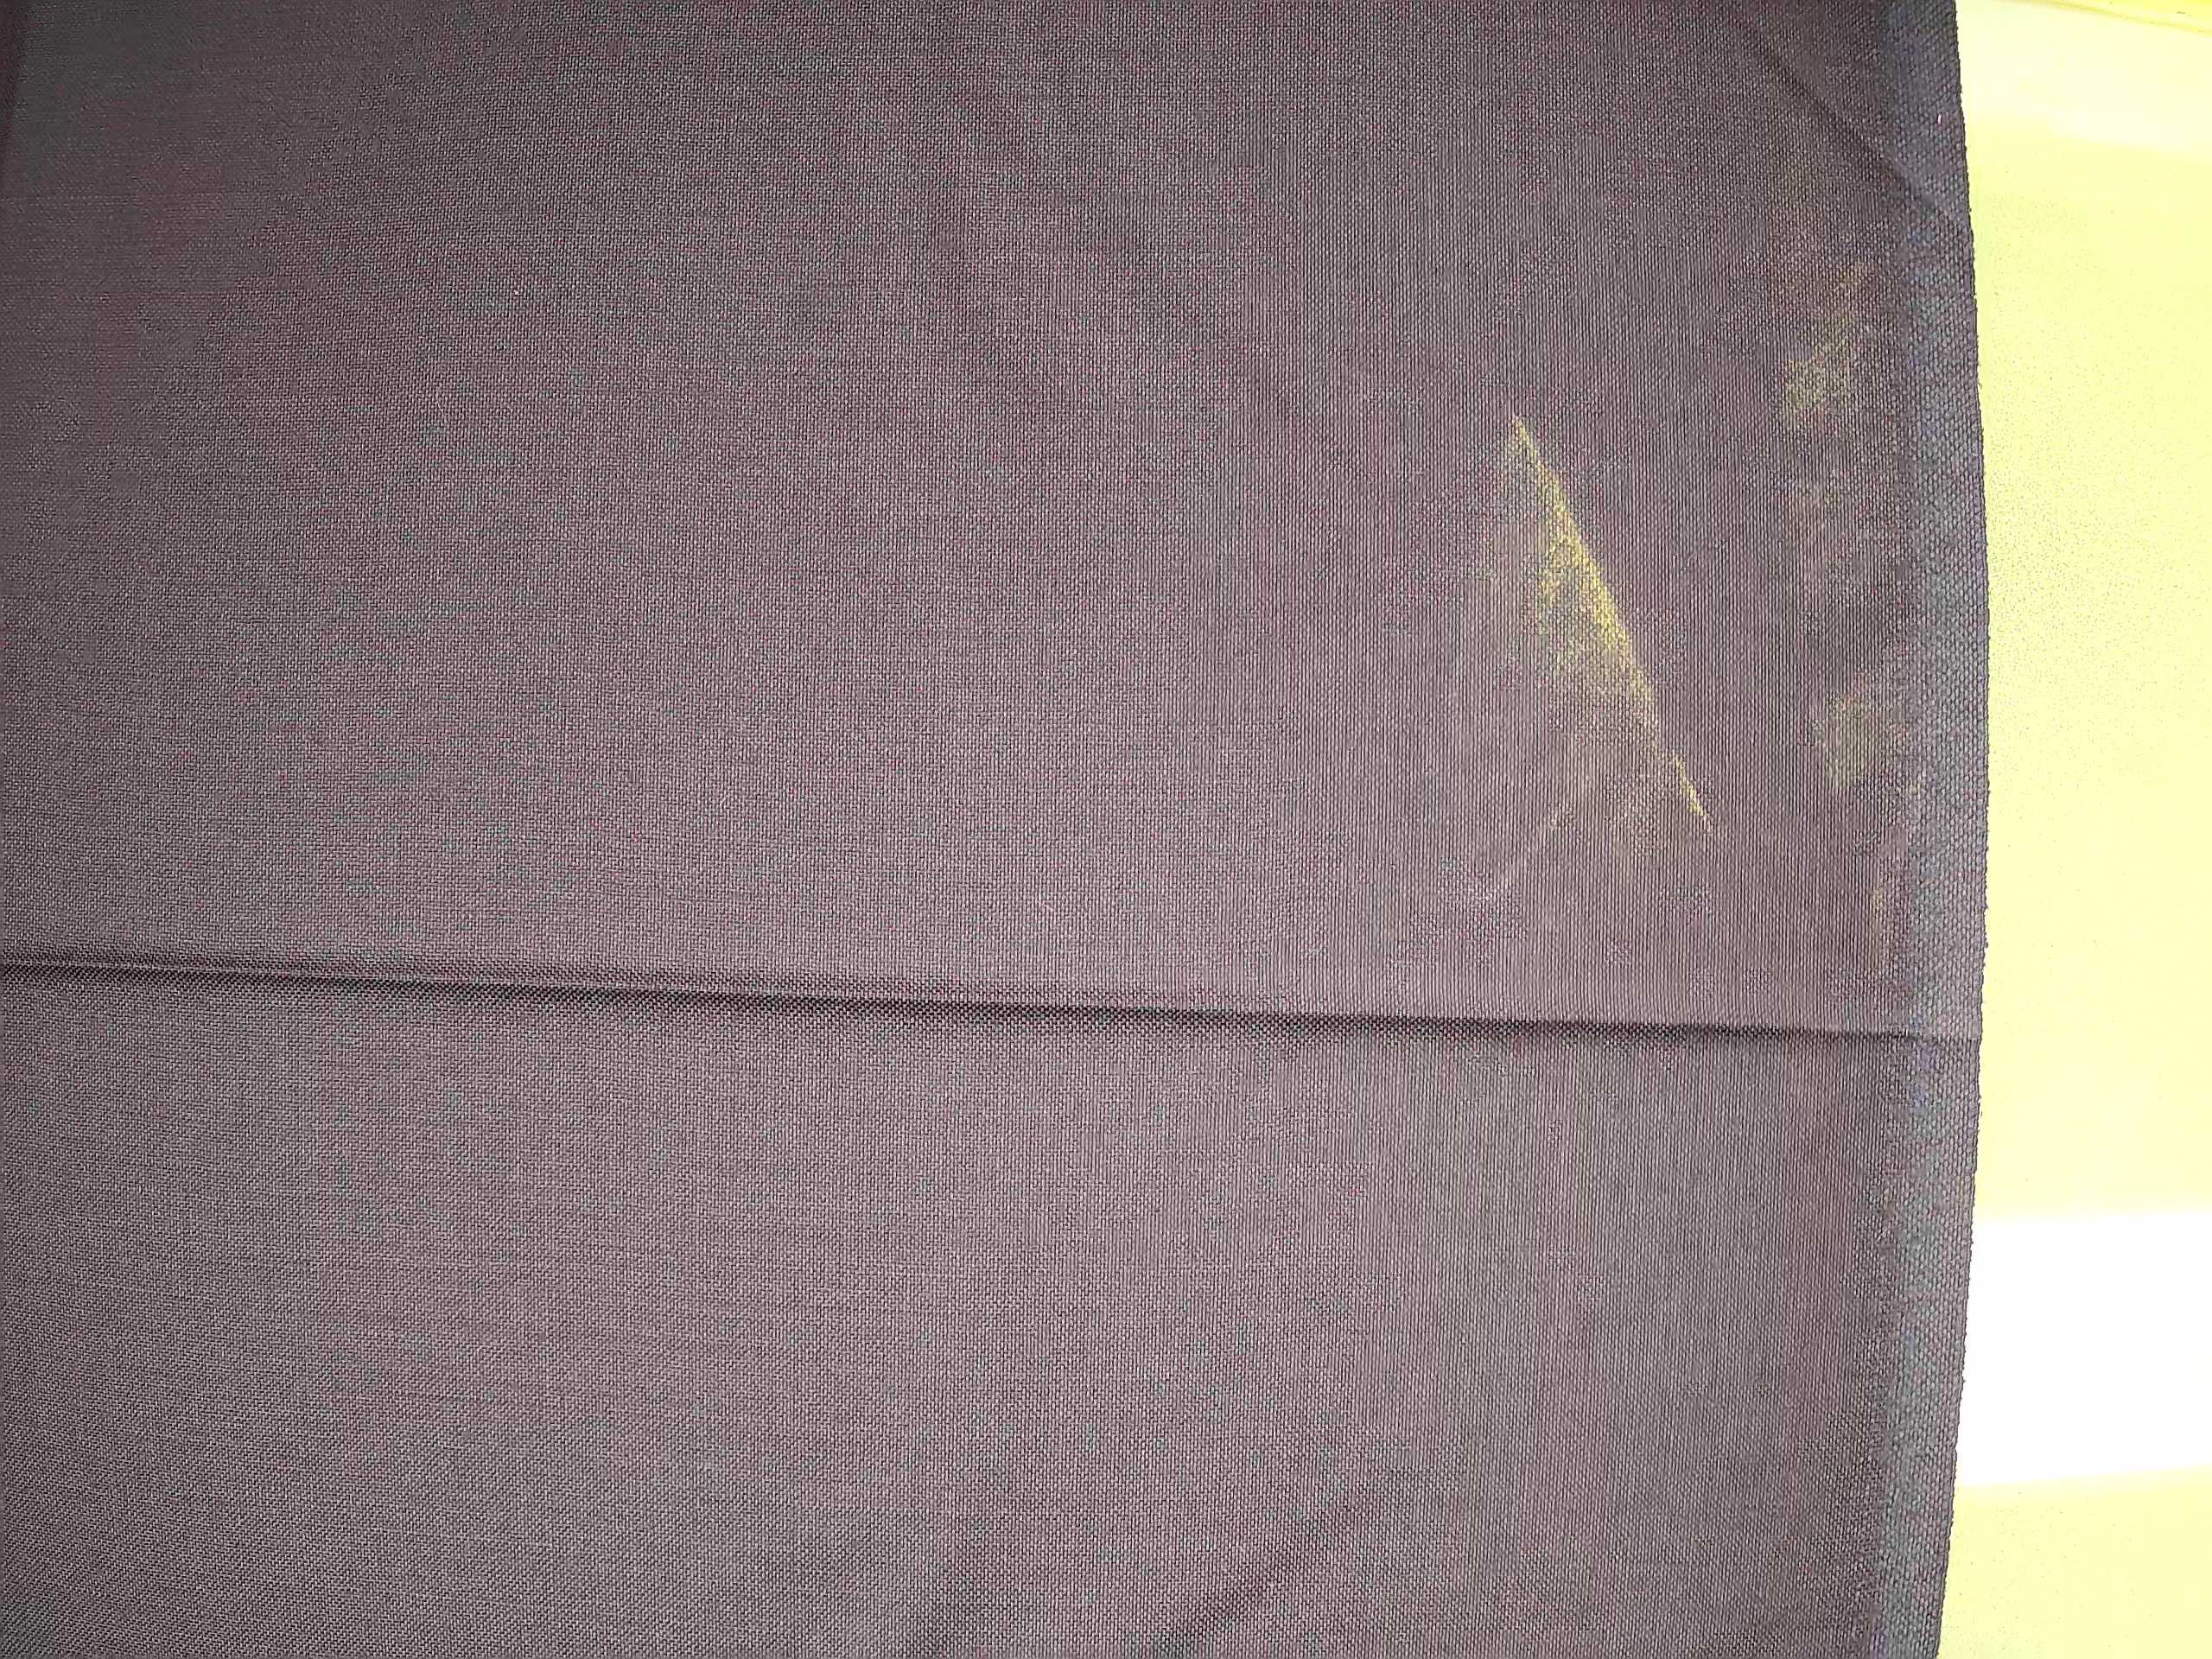stains: (1452, 391, 1738, 899)
